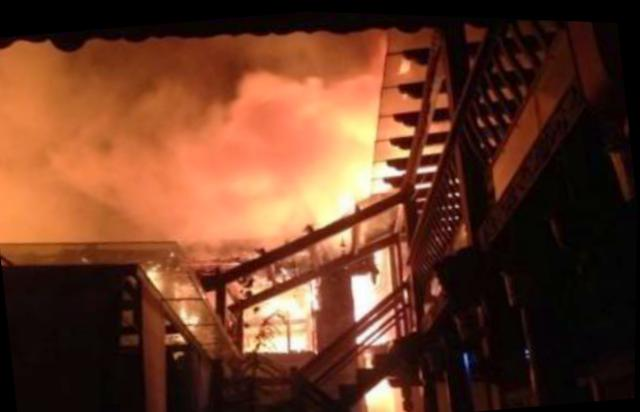fire: (279, 69, 389, 222), (249, 285, 319, 350), (366, 372, 403, 411), (351, 269, 379, 309), (376, 247, 395, 288), (181, 305, 206, 329), (149, 260, 168, 289)
